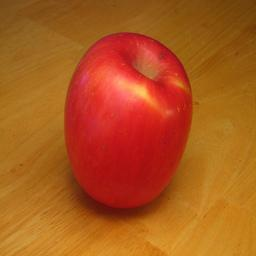apple: (62, 33, 193, 212)
